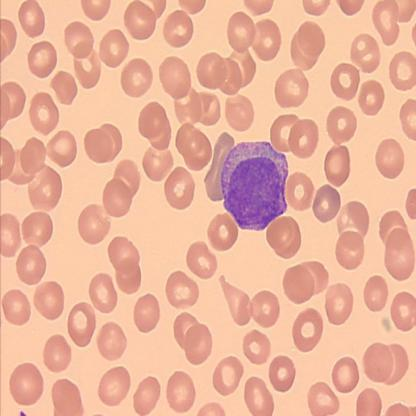Myelocyte: (222, 142, 289, 230)
